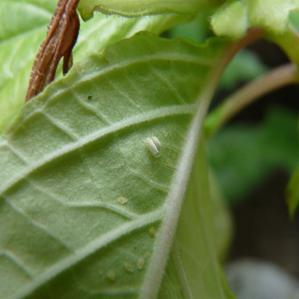Silverleaf whitefly: (139, 131, 171, 164)
